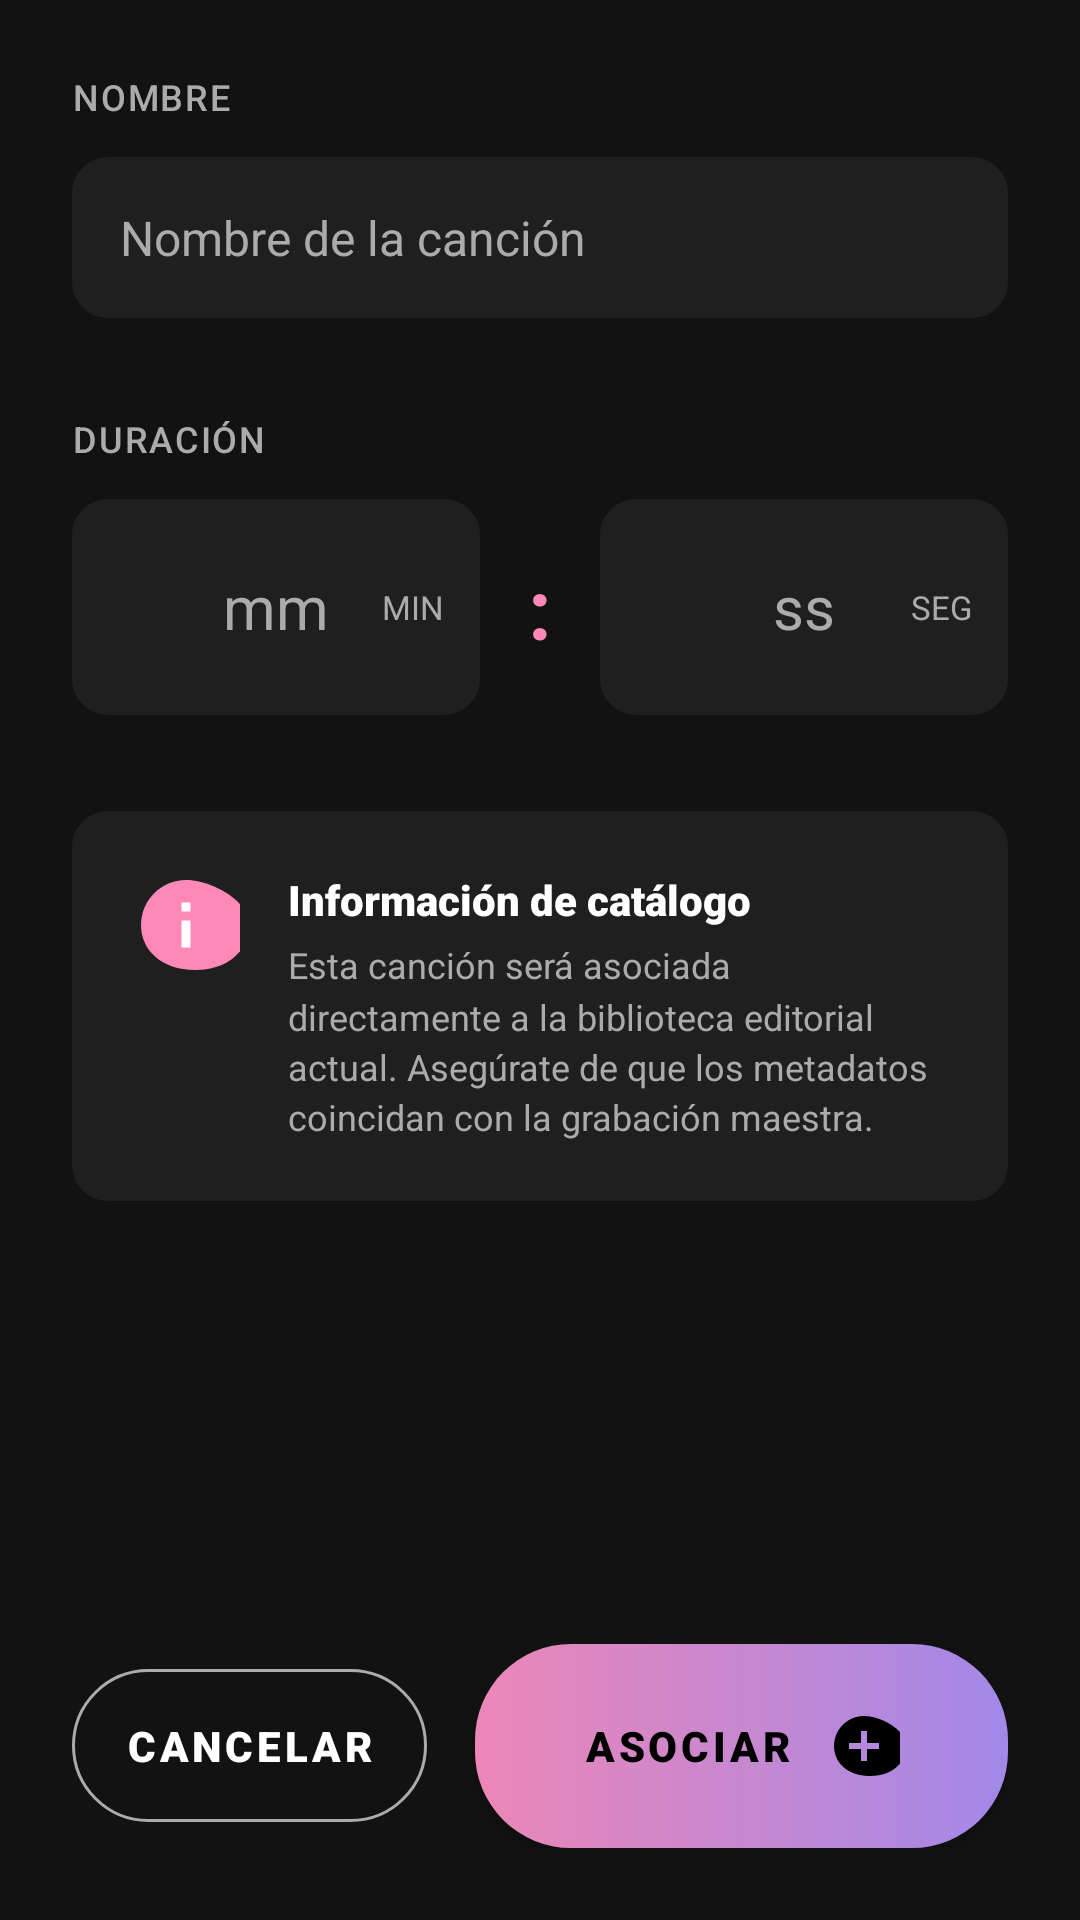

Point at icon controls on the screen. Image size 1080w x 1920h, points as (x,y).
info circle: (190,925)
